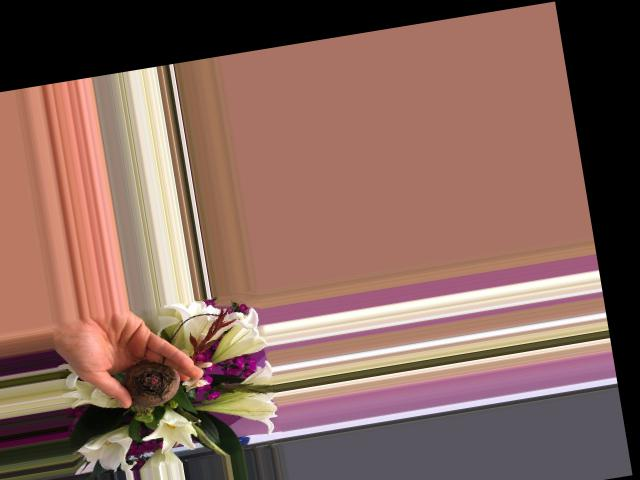beet: (121, 355, 185, 410)
